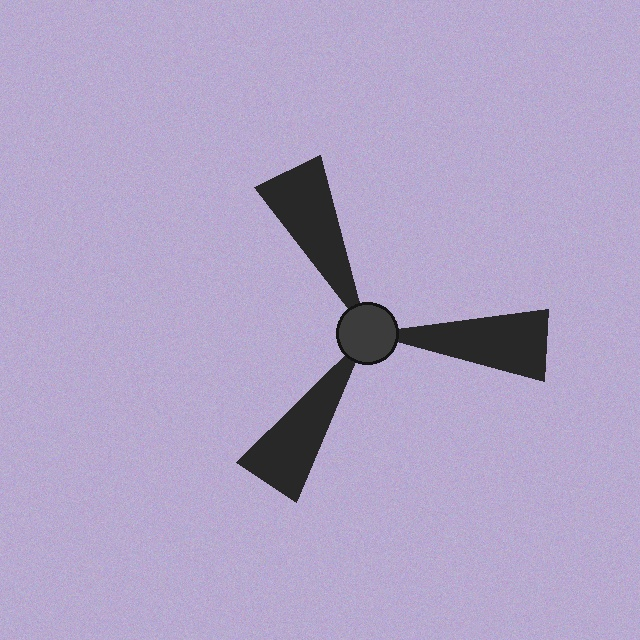fan: (157, 123, 577, 543)
